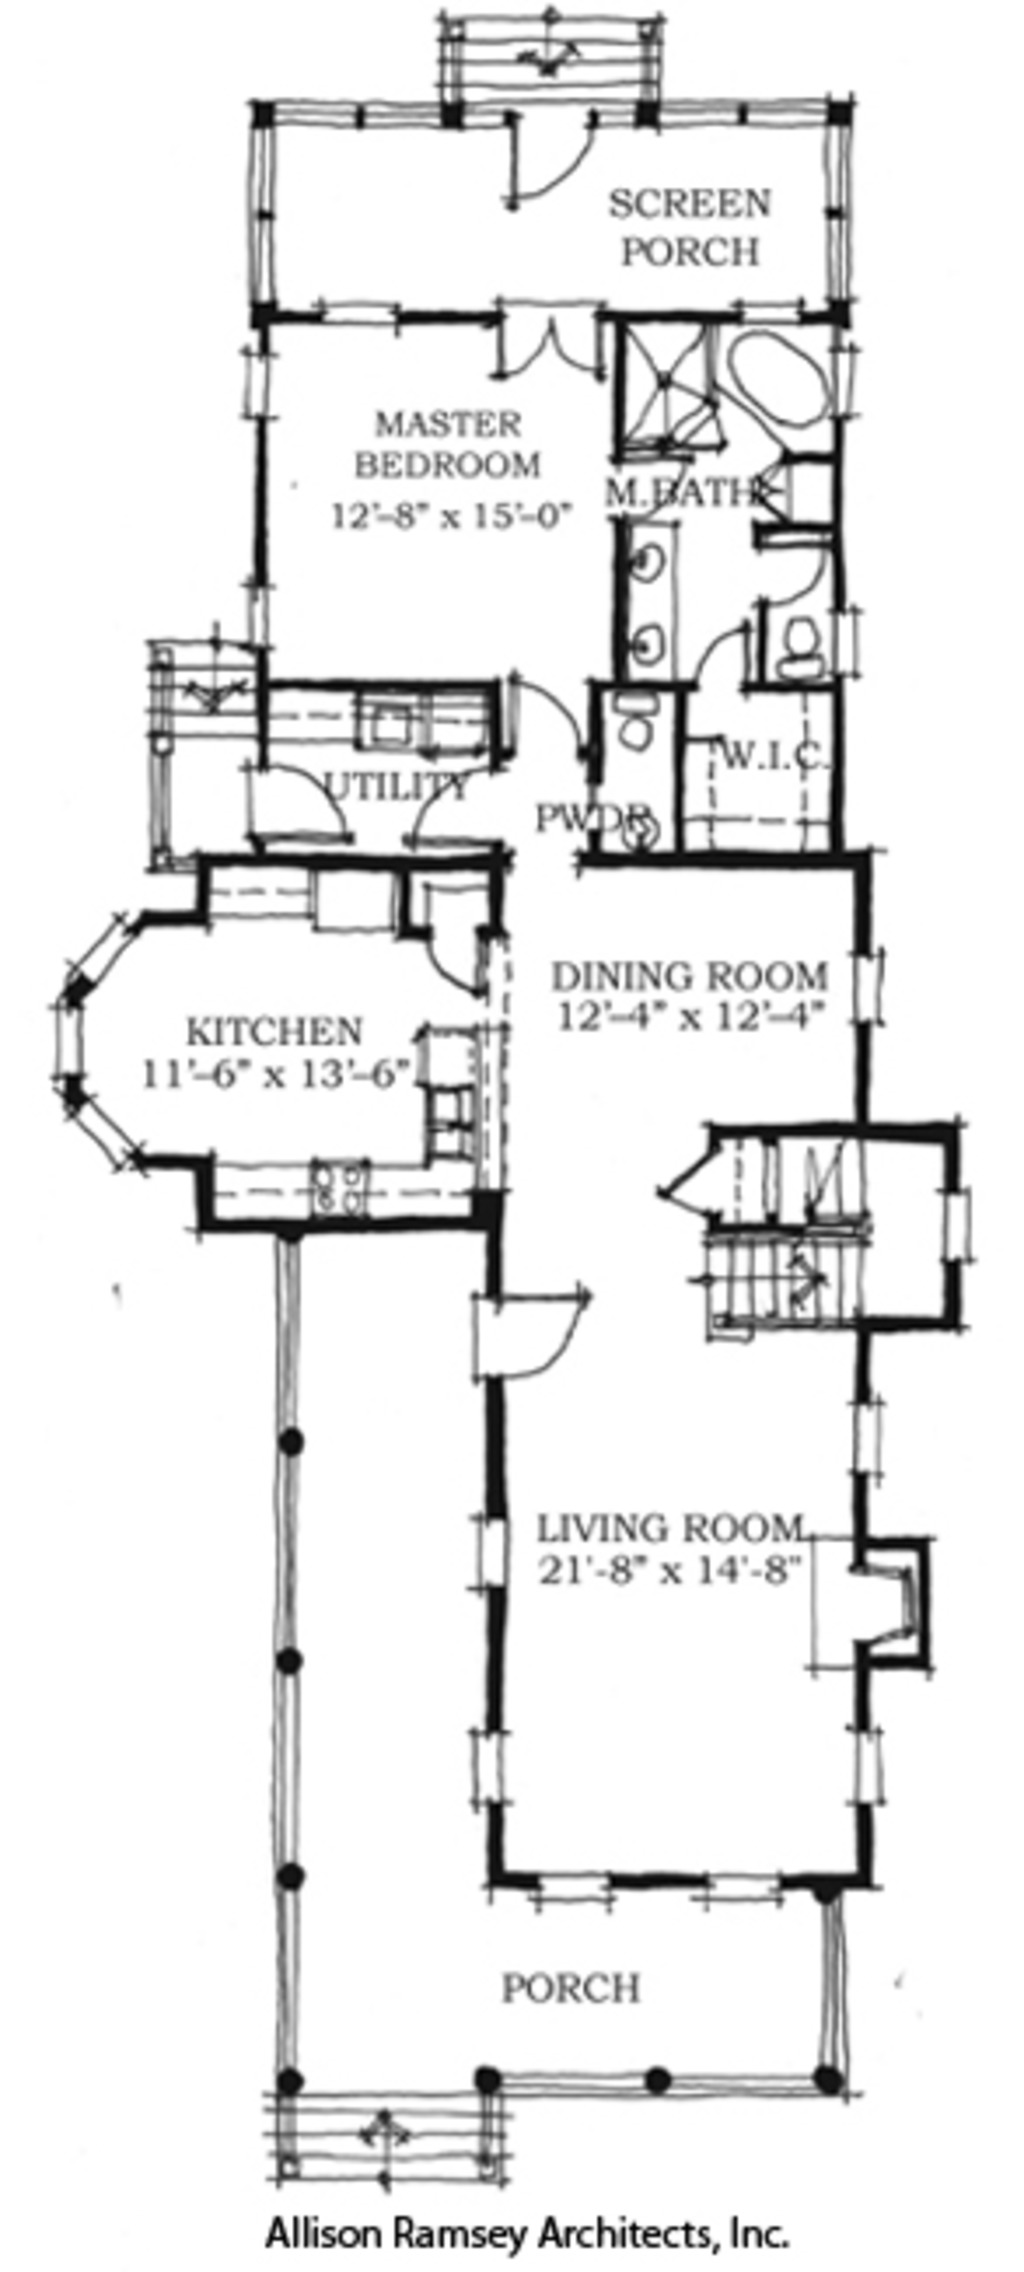door: (479, 1274, 592, 1381), (488, 285, 608, 384), (243, 759, 356, 856), (505, 667, 571, 759)
stairs: (262, 2079, 513, 2191)
